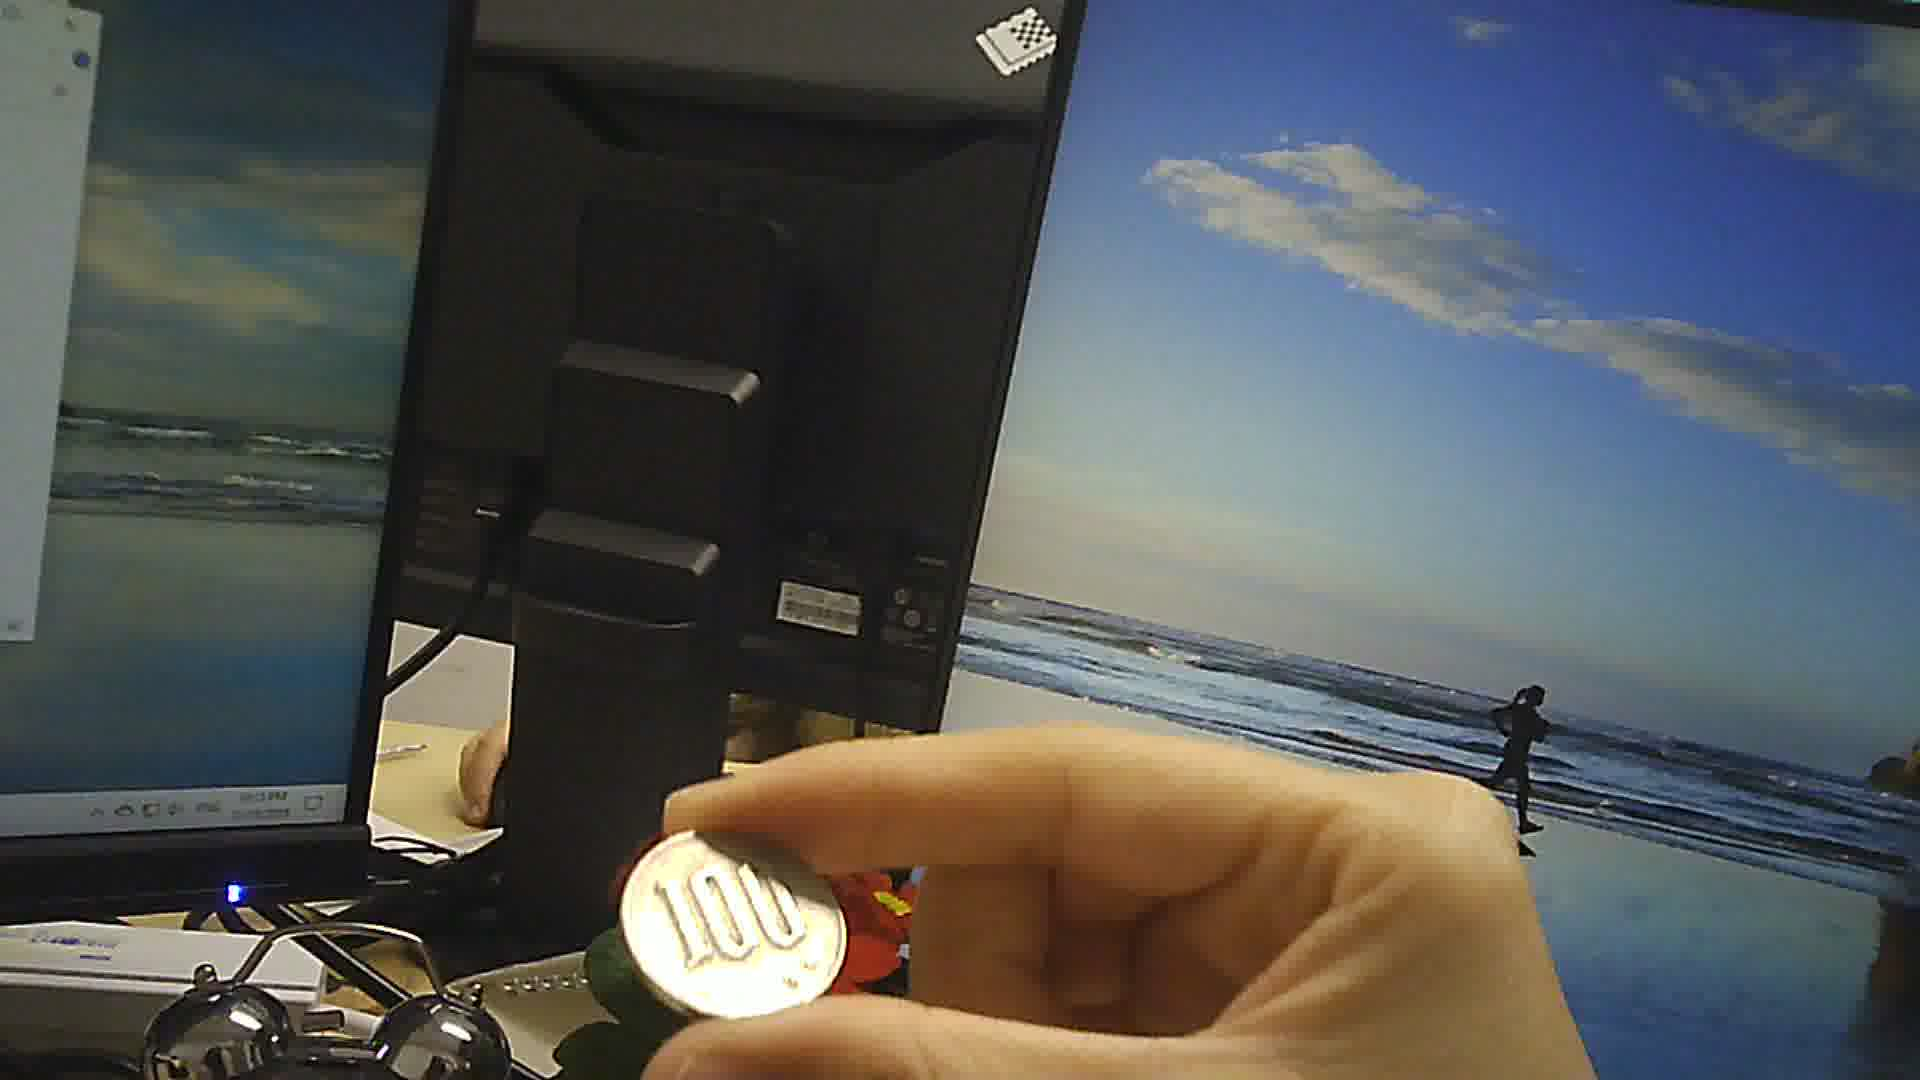100 Yen: (615, 818, 861, 1040)
